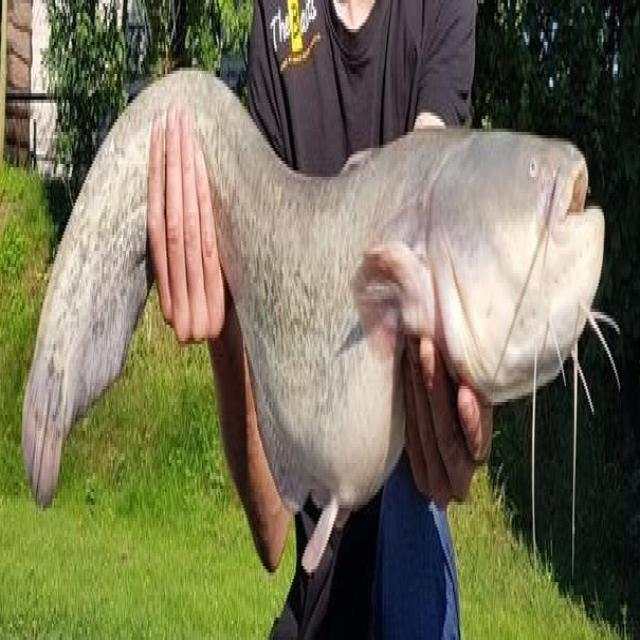Catfish: (21, 58, 625, 624)
